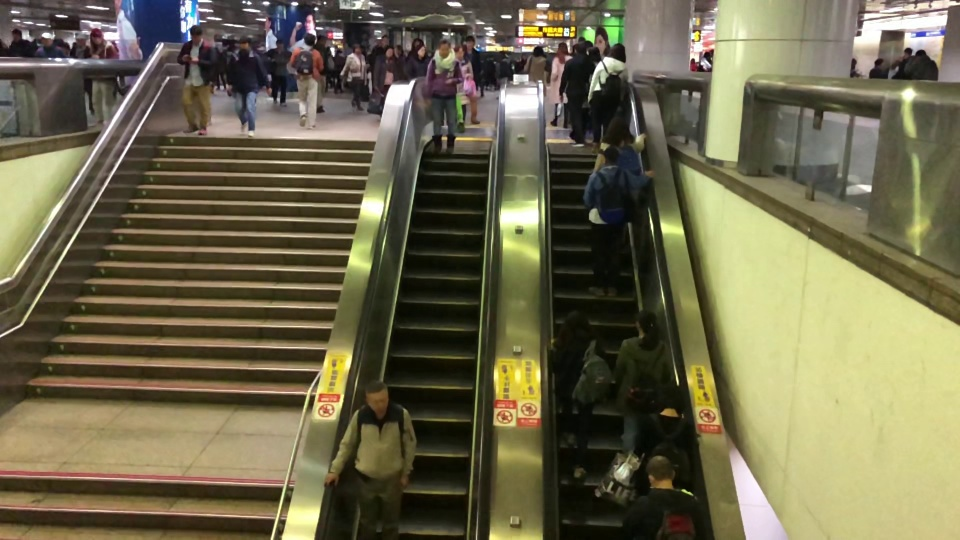person_head: (644, 453, 678, 491), (655, 381, 689, 415), (362, 378, 391, 416), (562, 309, 589, 342), (632, 309, 659, 340), (600, 116, 628, 145), (595, 145, 620, 168), (608, 41, 627, 61), (189, 24, 204, 45), (89, 27, 105, 45), (437, 37, 450, 58), (301, 31, 316, 48), (238, 34, 251, 53), (588, 45, 601, 63), (40, 31, 53, 47), (451, 45, 464, 60), (556, 41, 569, 55), (901, 45, 914, 59), (574, 42, 586, 56), (11, 28, 23, 42), (415, 43, 426, 58), (465, 34, 475, 50), (75, 34, 88, 46), (315, 33, 327, 46), (532, 45, 545, 57), (383, 45, 394, 59), (914, 49, 928, 59), (351, 42, 362, 54), (873, 57, 885, 68), (275, 38, 284, 51)
person_vbox: (323, 378, 417, 540), (546, 309, 612, 483), (581, 145, 655, 297), (613, 308, 674, 460), (620, 452, 707, 540), (632, 383, 698, 495), (422, 38, 464, 155), (225, 35, 273, 137), (176, 24, 217, 135), (587, 42, 629, 148), (558, 41, 597, 148), (590, 113, 648, 177), (289, 32, 325, 130), (87, 28, 118, 126), (338, 43, 370, 111), (372, 46, 401, 120), (262, 39, 292, 107), (71, 34, 95, 115), (549, 40, 571, 128), (453, 45, 473, 131), (462, 35, 481, 124), (315, 33, 331, 113), (523, 45, 547, 95), (402, 43, 431, 83), (903, 49, 939, 80), (33, 32, 68, 59), (6, 28, 38, 57), (890, 46, 916, 79), (869, 56, 890, 79)
